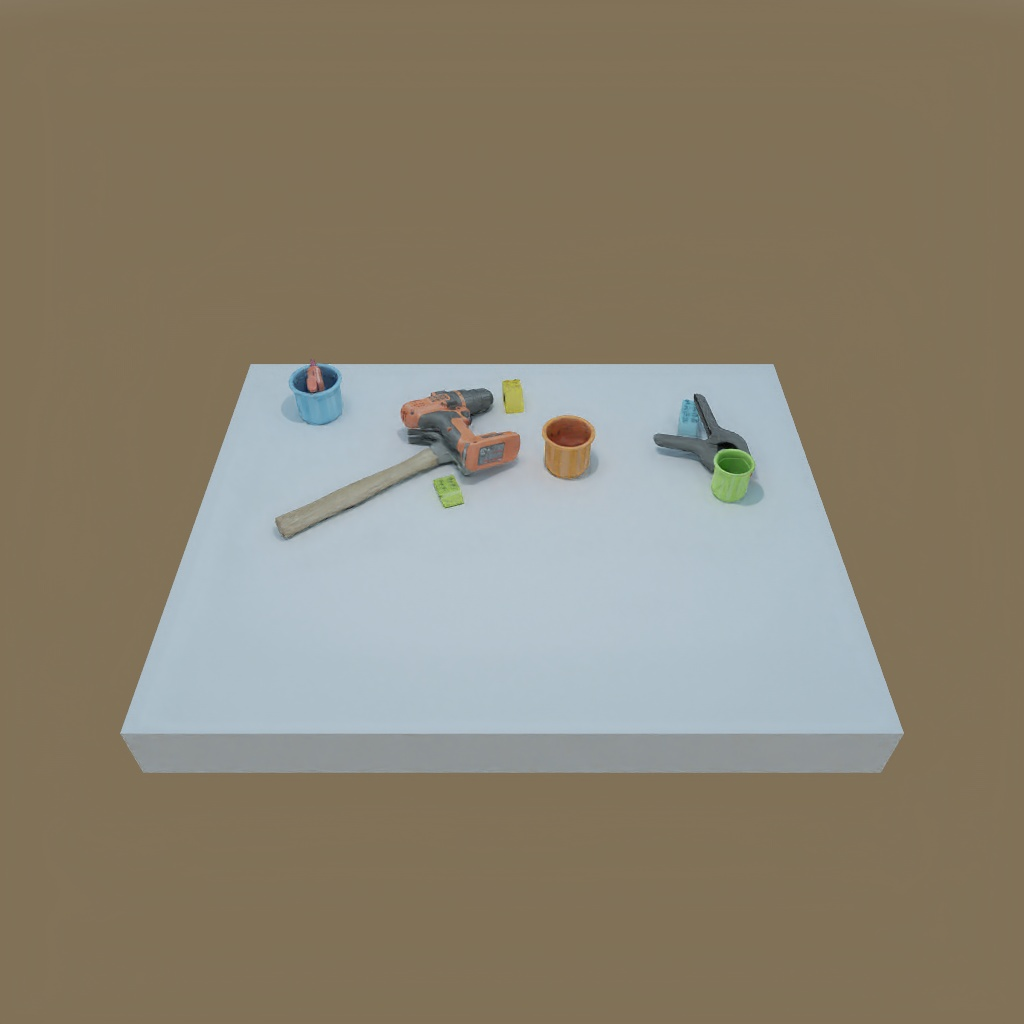hammer: (272, 430, 465, 553)
power_drill: (401, 388, 517, 477)
